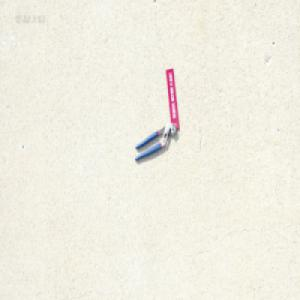Label: (165, 66, 179, 129)
Pliers: (134, 122, 176, 161)
